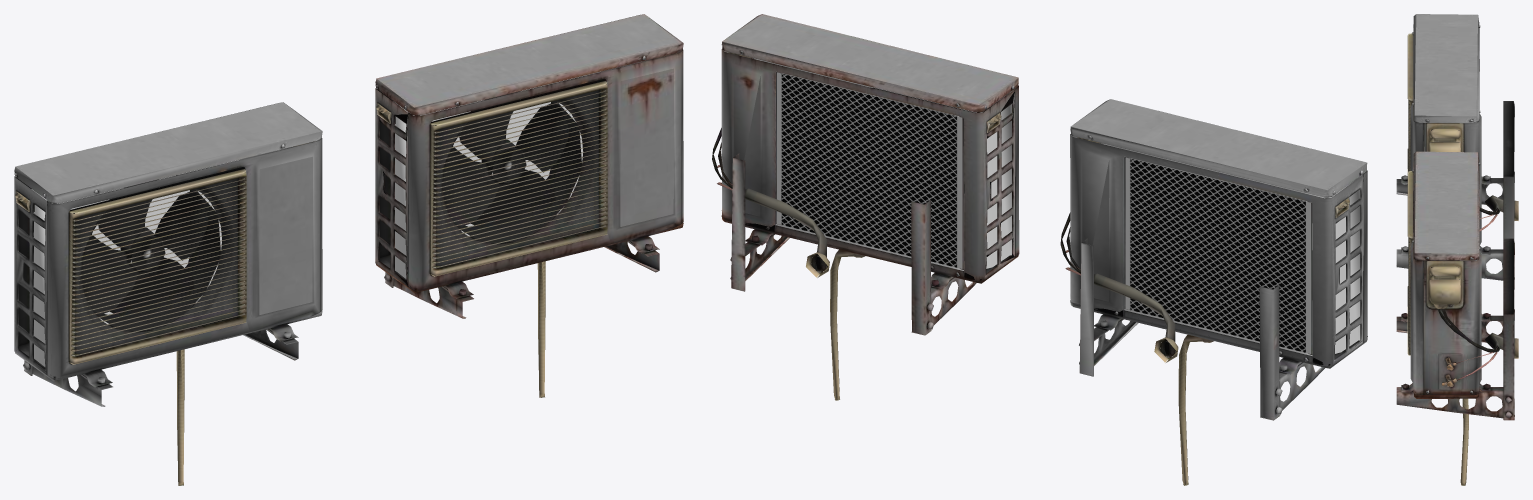
The model's file is exterior_aircon_unit.glb.
The picture shows the model from 3 angles, left to right: view 1: azimuth 30°, elevation 25°; view 2: azimuth 150°, elevation 25°; view 3: azimuth 270°, elevation 25°; orthographic projection. The views are drawn at different scales.
Parts seen in each view (by area): view 1: exterior_aircon_unit, exterior_aircon_unit_rusted; view 2: exterior_aircon_unit_rusted, exterior_aircon_unit; view 3: exterior_aircon_unit_rusted, exterior_aircon_unit.
Part boxes in pixels (box(x1,y1,x2,y2)): exterior_aircon_unit: box(14, 102, 322, 485); exterior_aircon_unit_rusted: box(375, 14, 683, 397); exterior_aircon_unit_rusted: box(712, 14, 1019, 400); exterior_aircon_unit: box(1060, 99, 1367, 485); exterior_aircon_unit_rusted: box(1396, 151, 1518, 485); exterior_aircon_unit: box(1396, 14, 1518, 280).
Size of the model in its own units: 1.8 by 0.9276 by 0.3748.
4 materials, 4 textured.
